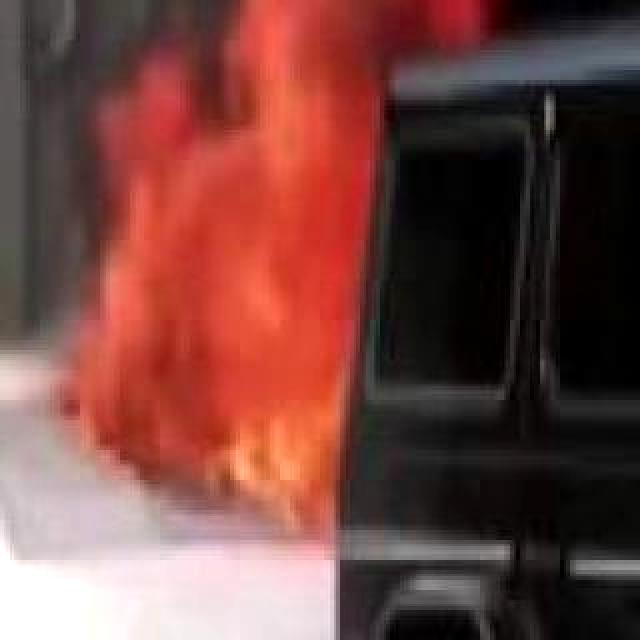fire: (122, 0, 488, 524)
